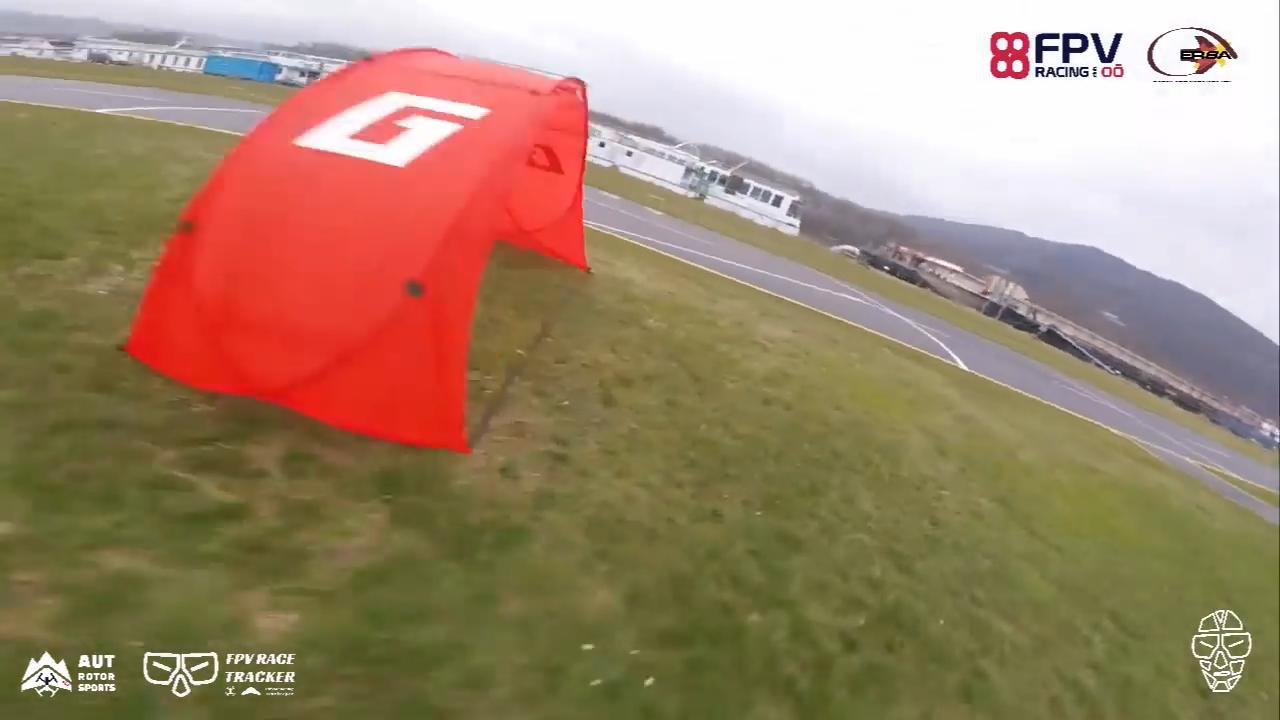gate: (115, 38, 591, 468)
